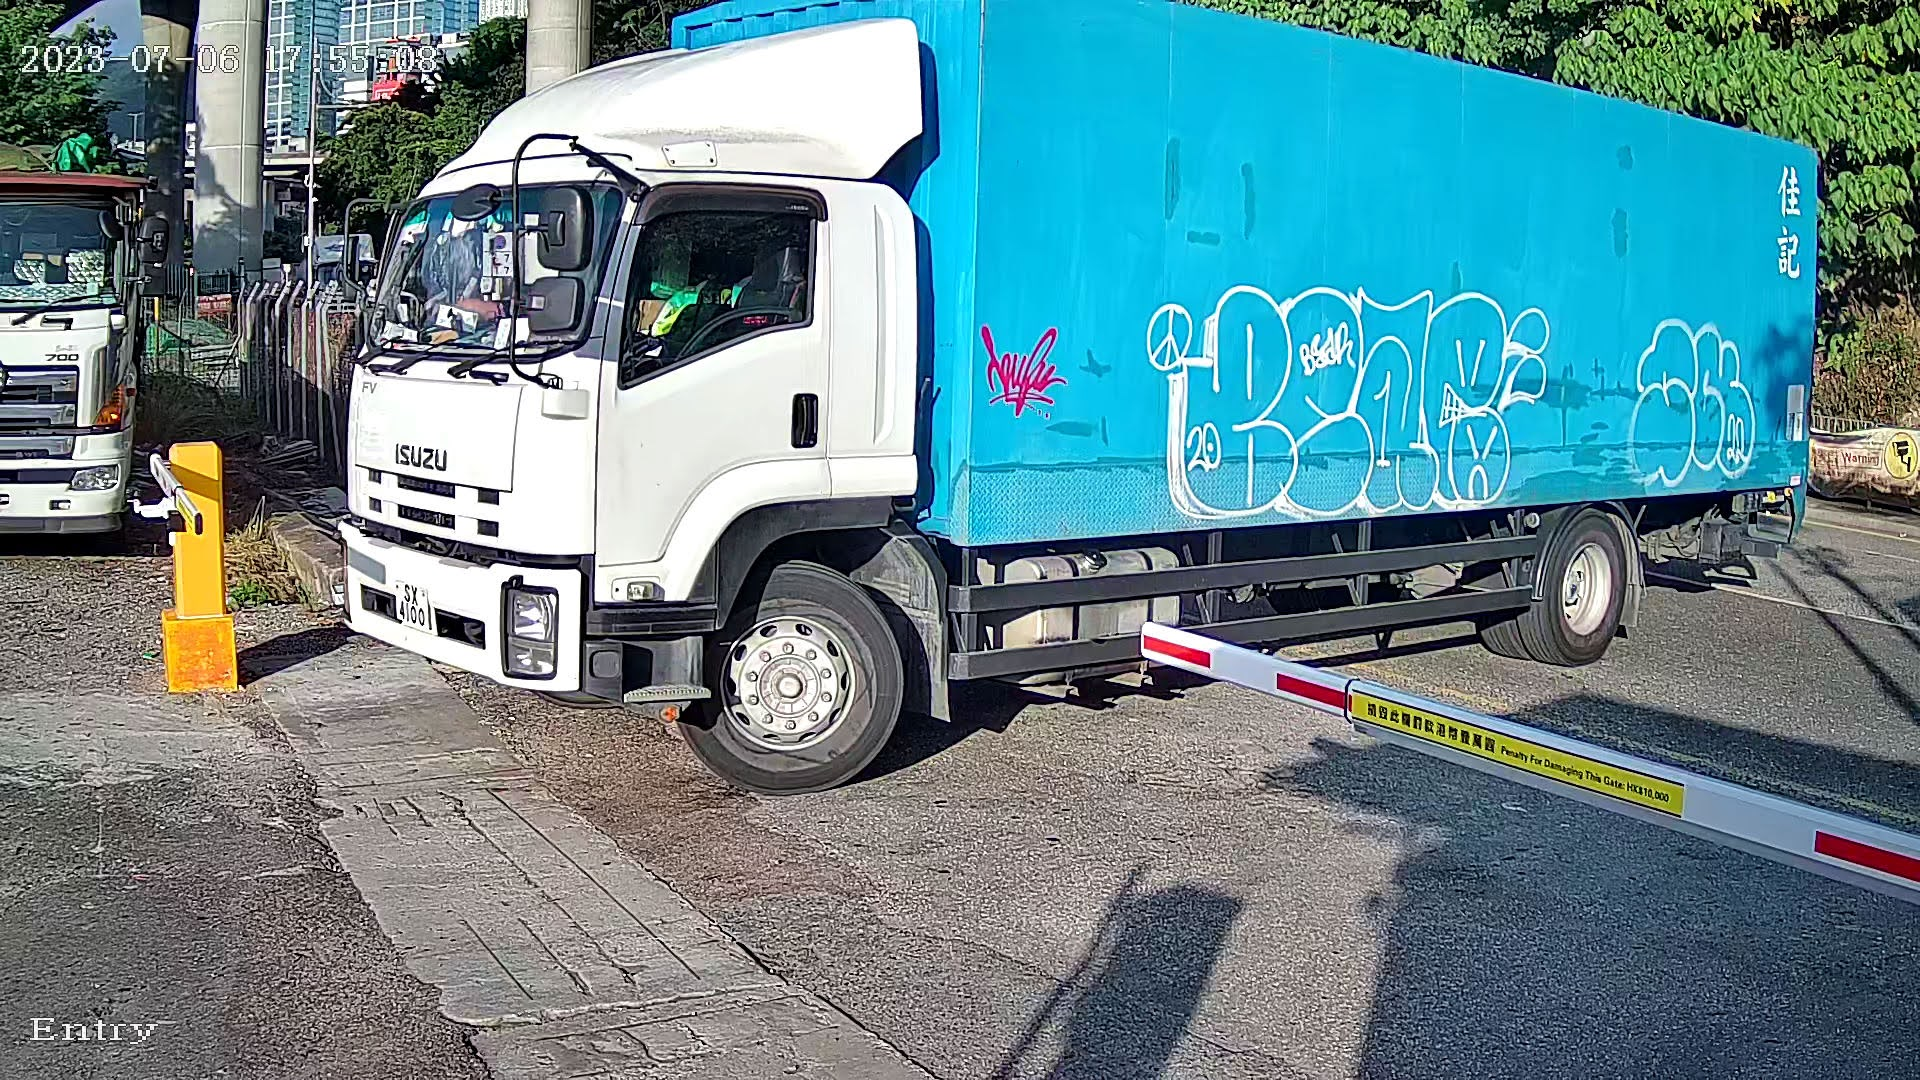truck_large: (301, 1, 1837, 807)
